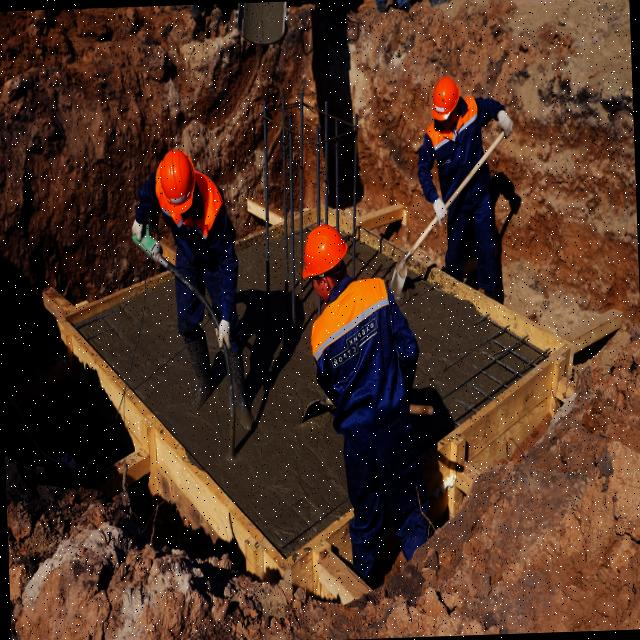Helmet: (158, 149, 200, 221), (300, 223, 348, 283), (432, 78, 464, 124)
Jacket: (319, 284, 407, 440), (431, 116, 493, 202), (167, 211, 227, 291)
